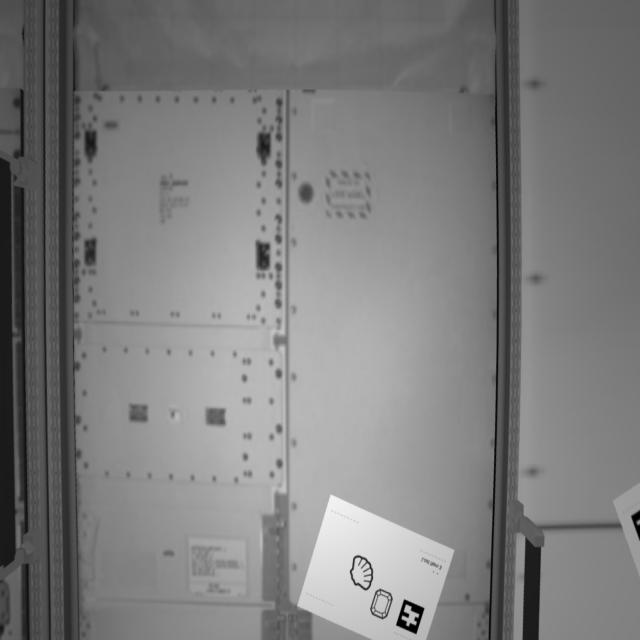emerald: (370, 587, 396, 622)
shell: (350, 553, 376, 592)
